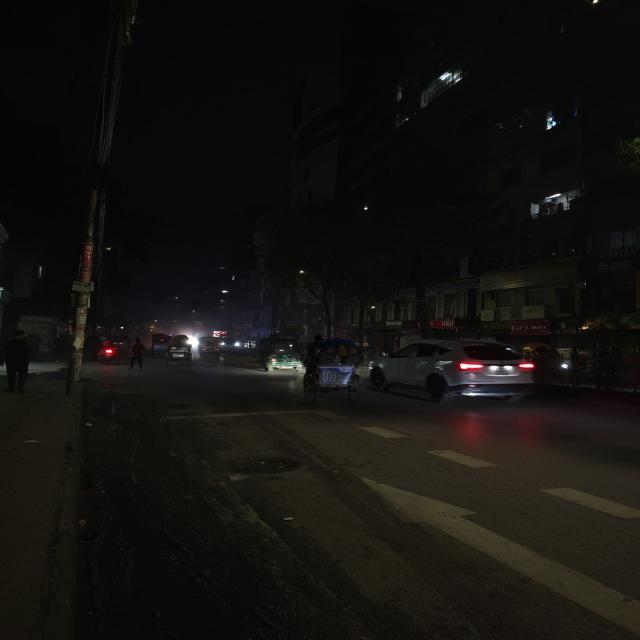car: (373, 332, 530, 411)
cng: (253, 337, 309, 377), (196, 335, 220, 358)
motorcycle: (94, 336, 117, 367)
pedestrian: (4, 328, 34, 398), (130, 336, 149, 374)
rickshaw: (304, 334, 364, 405), (163, 334, 194, 367), (151, 331, 169, 356)
